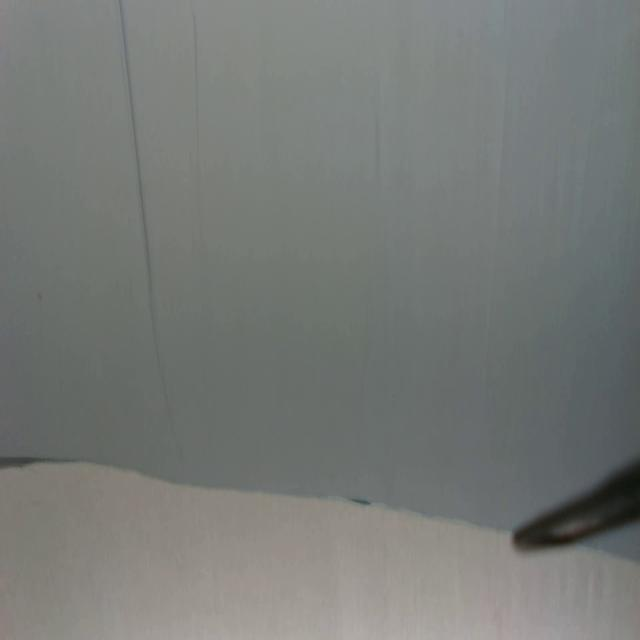crease: (114, 0, 180, 453), (191, 3, 202, 160)
